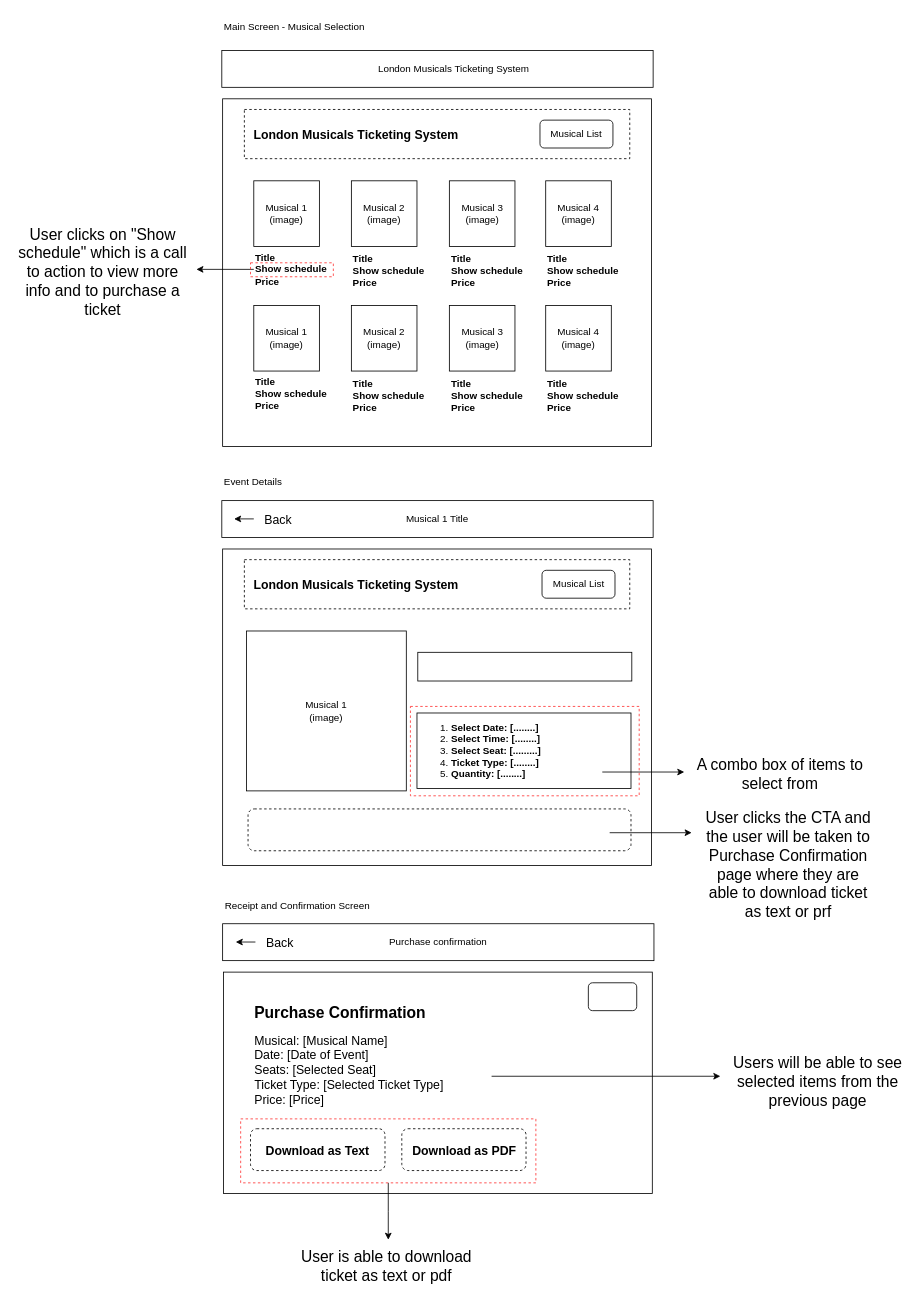
This 920x1299 diagram has some shape labels left out. Each missing label, with the centre of its shape:
Book Ticket: point 439,829
Event Info: point 524,666
Exit: point 612,996
